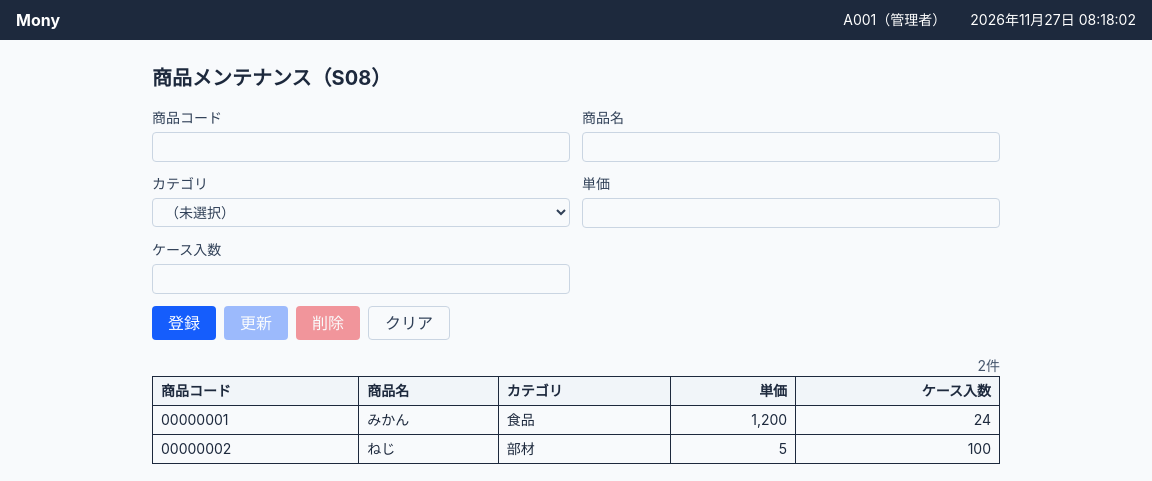
Test case: 行の選択 › 行を選ぶと入力欄に表示され、商品コードは編集不可になる
Expected: the heading "商品メンテナンス（S08）" is shown, [152, 66, 391, 90]
Click the text "ねじ" at (429, 449), box [359, 434, 498, 464]
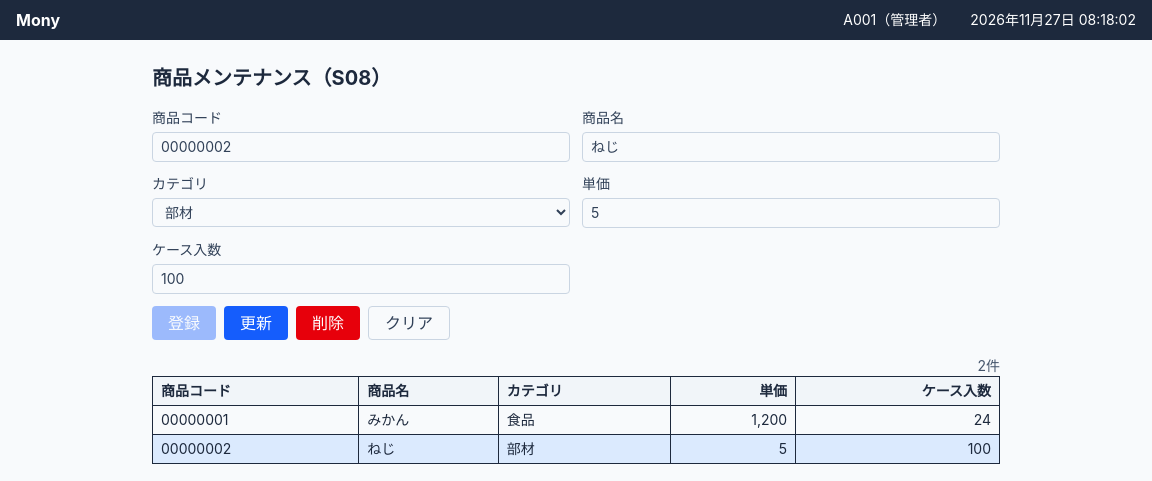
Expected: the field labelled "商品コード" holds "00000002", [152, 132, 570, 162]
Expected: the field labelled "商品コード" is disabled, [152, 132, 570, 162]
Expected: the field labelled "商品名" holds "ねじ", [582, 132, 1000, 162]
